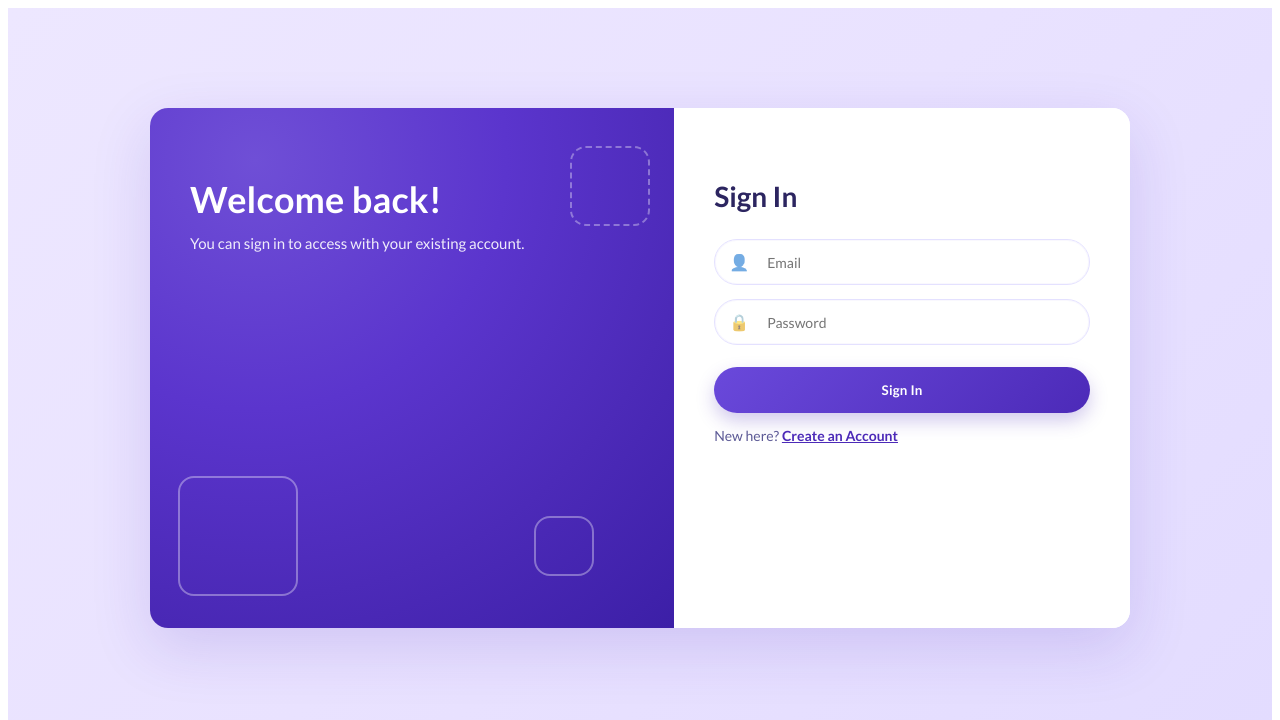
Test case: <Login /> › shows API error when login fails
In the field with placeholder "Email": (920, 262) [765,253,1075,272], type "boom@a.com"
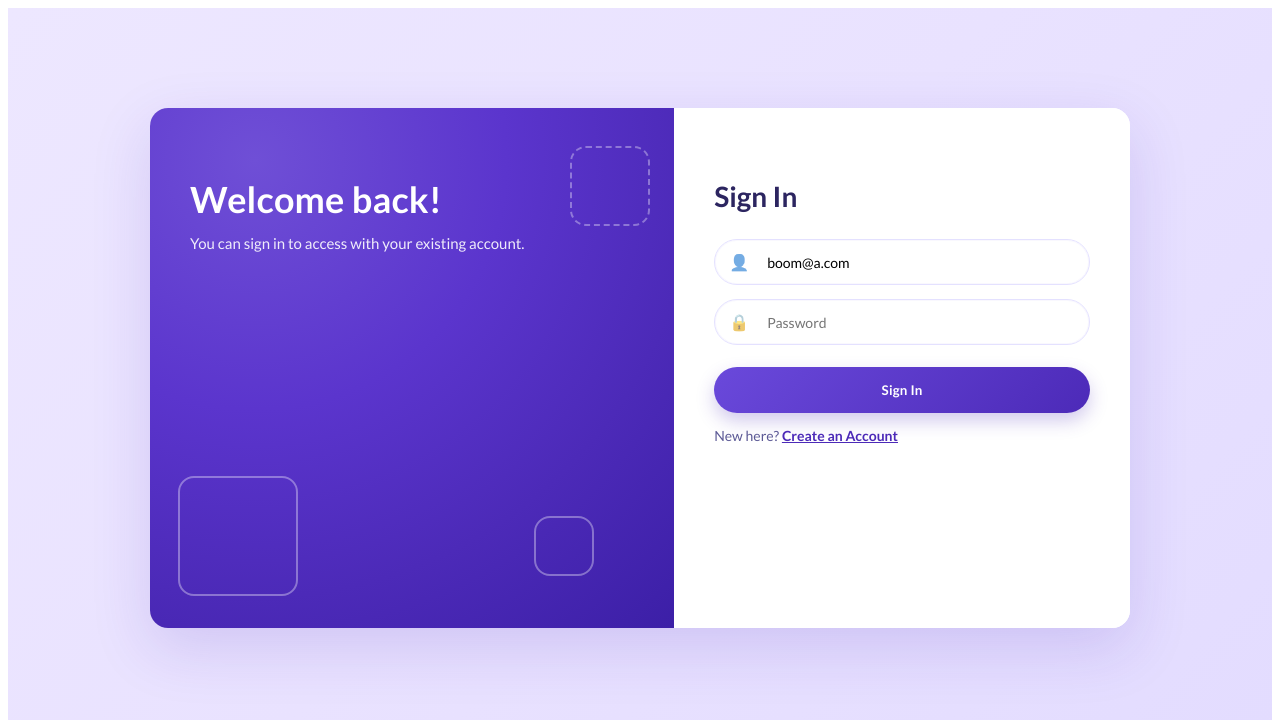
In the password field with placeholder "Password": (920, 322) [765,313,1075,332], type "x"
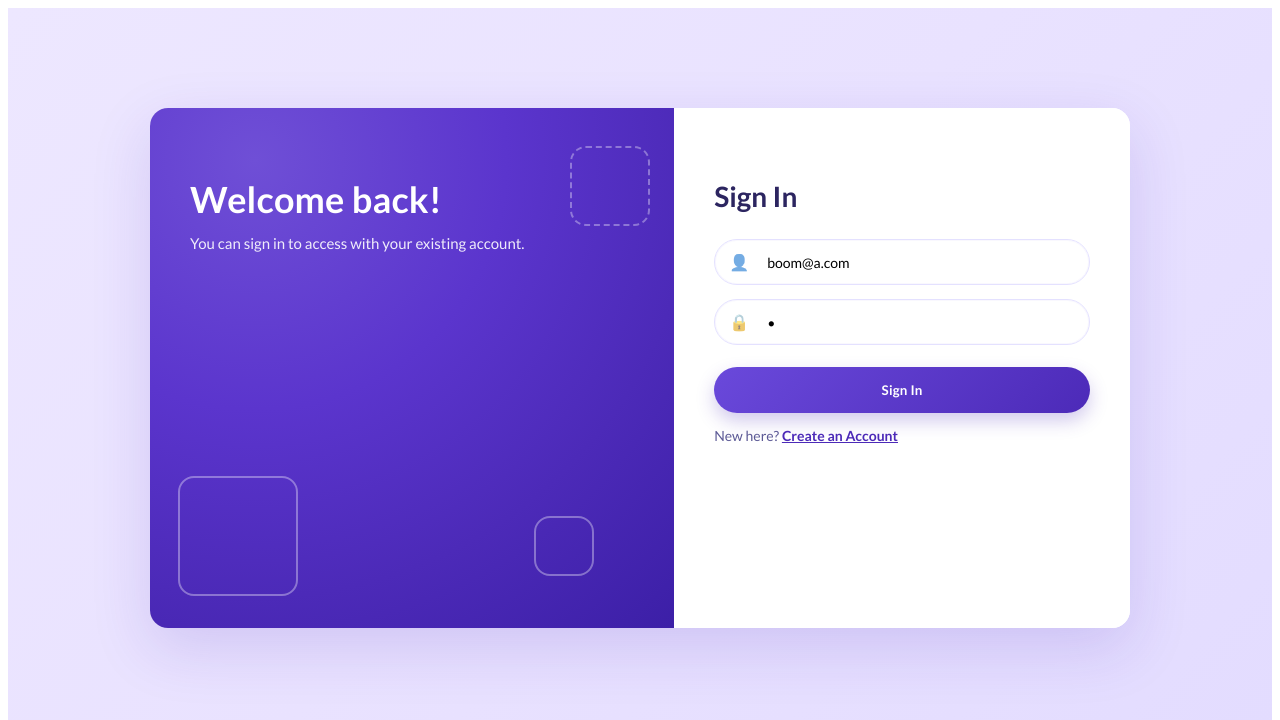
Click the button "Sign In": (902, 390) [714,367,1090,413]
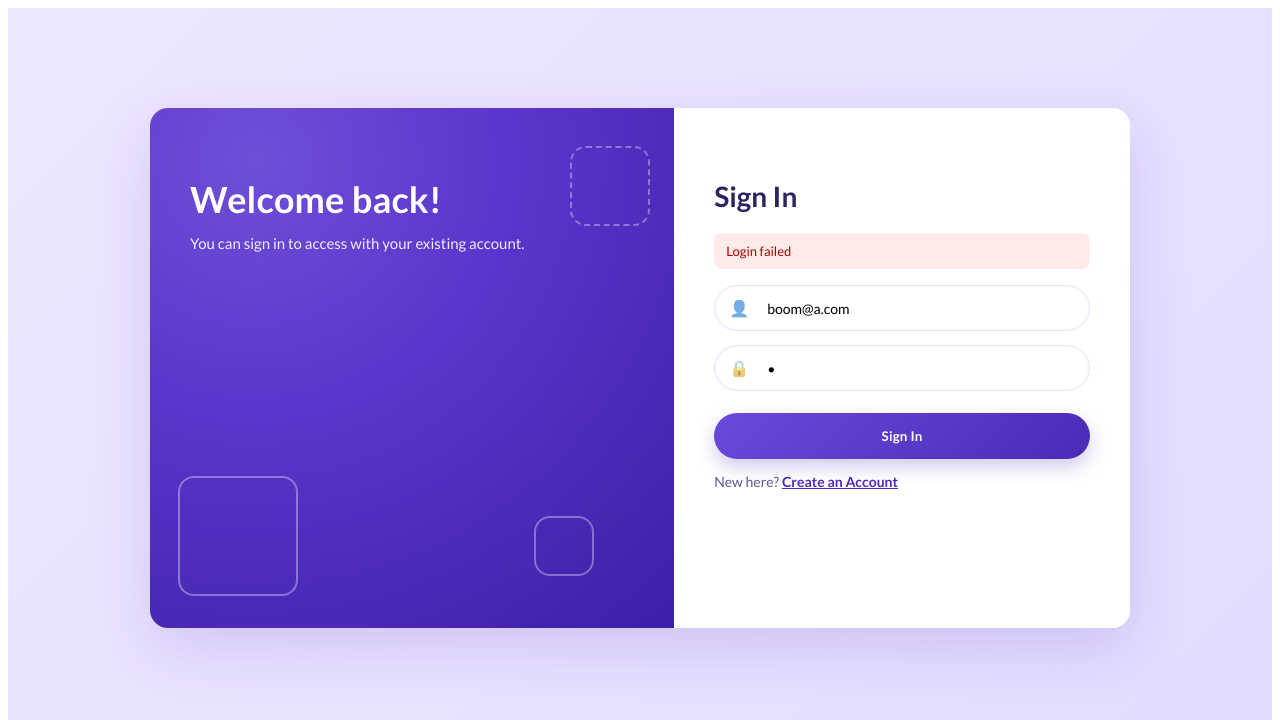
Now the text "Login failed" is shown, box [714,233,1090,269]
